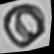correct: (0, 0, 50, 54)
